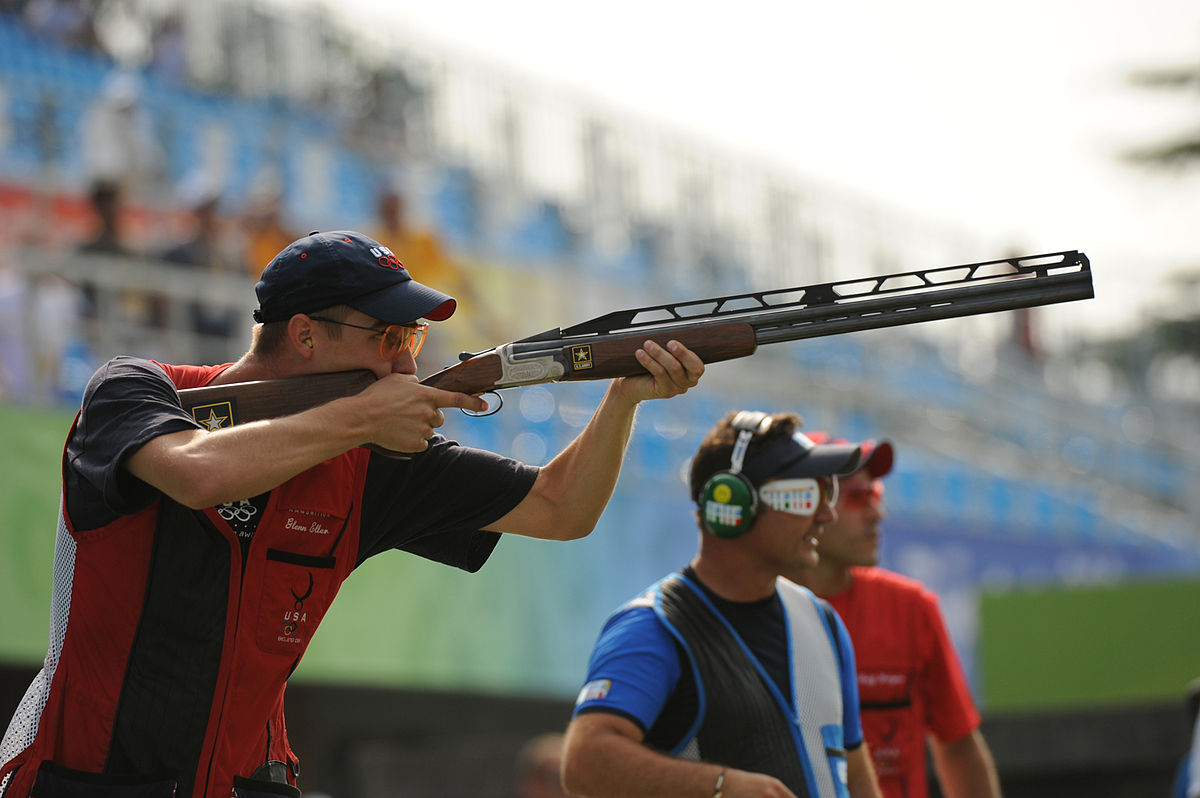Gun: (481, 257, 1070, 396)
